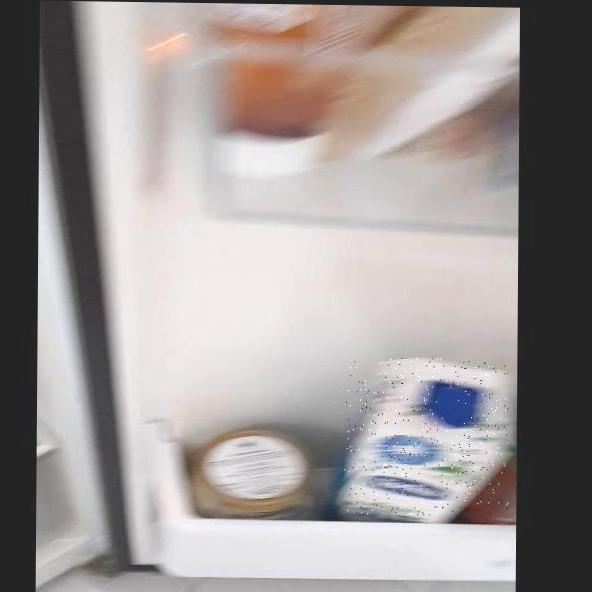milk: (344, 357, 509, 516)
